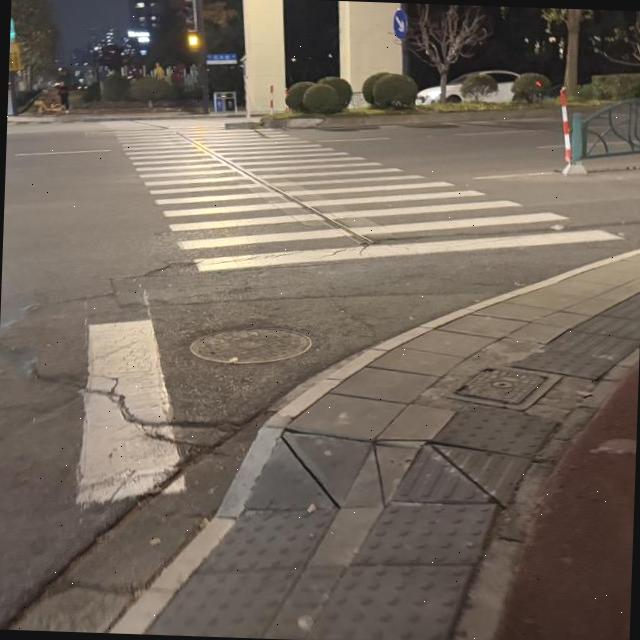curb: (109, 261, 606, 633), (451, 350, 638, 640), (261, 109, 559, 130), (7, 111, 208, 123)
